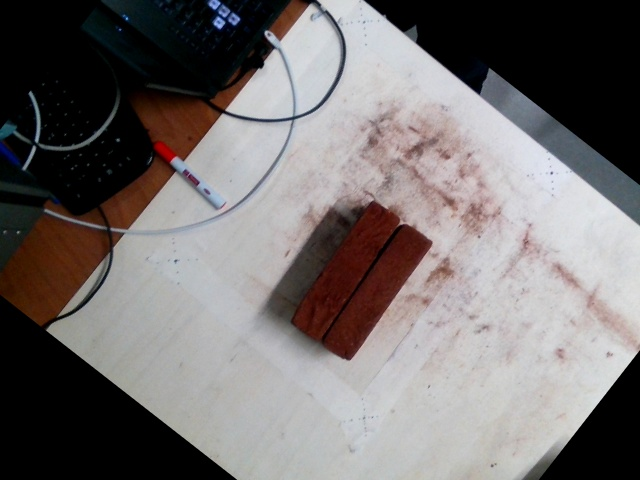brick-side: (321, 222, 432, 361), (290, 201, 401, 339)
